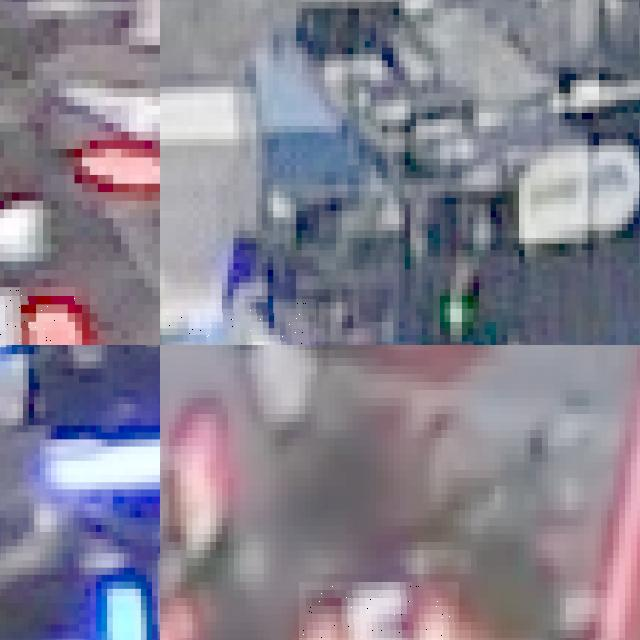B1: (161, 299, 316, 345)
B5: (101, 539, 160, 640)
R5: (299, 582, 459, 640)
